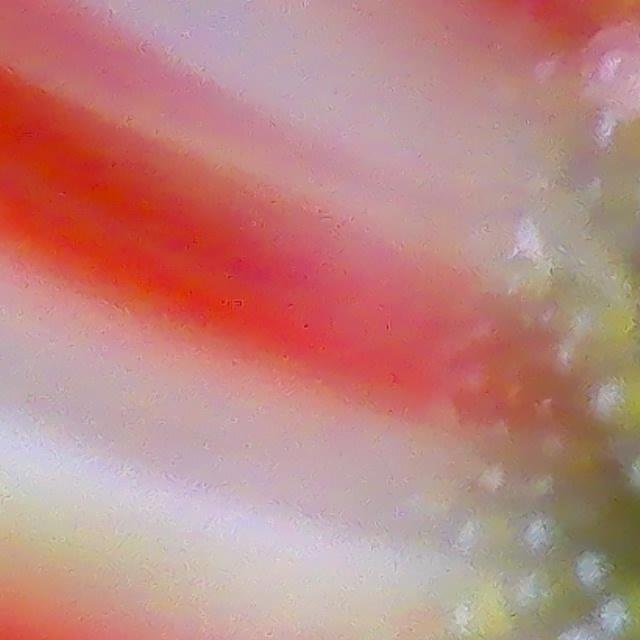SeaGrape: (579, 22, 640, 114), (588, 368, 640, 429)
